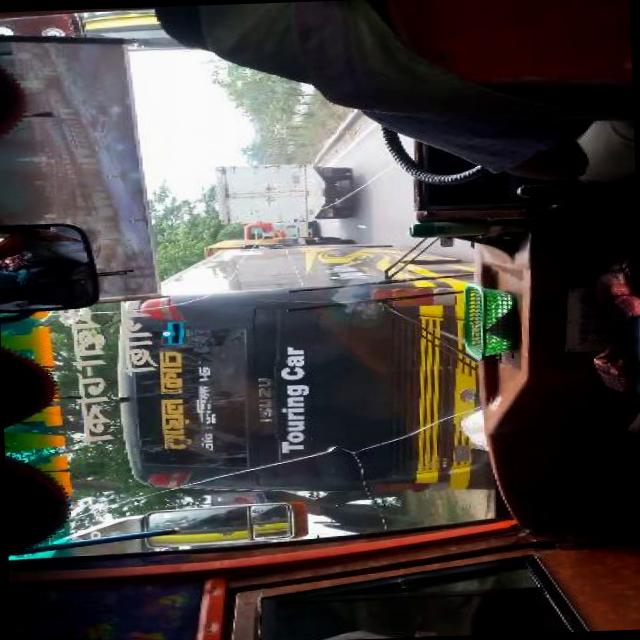bus: (124, 240, 494, 494), (240, 222, 314, 240)
truck: (210, 160, 346, 225), (202, 235, 350, 251)
